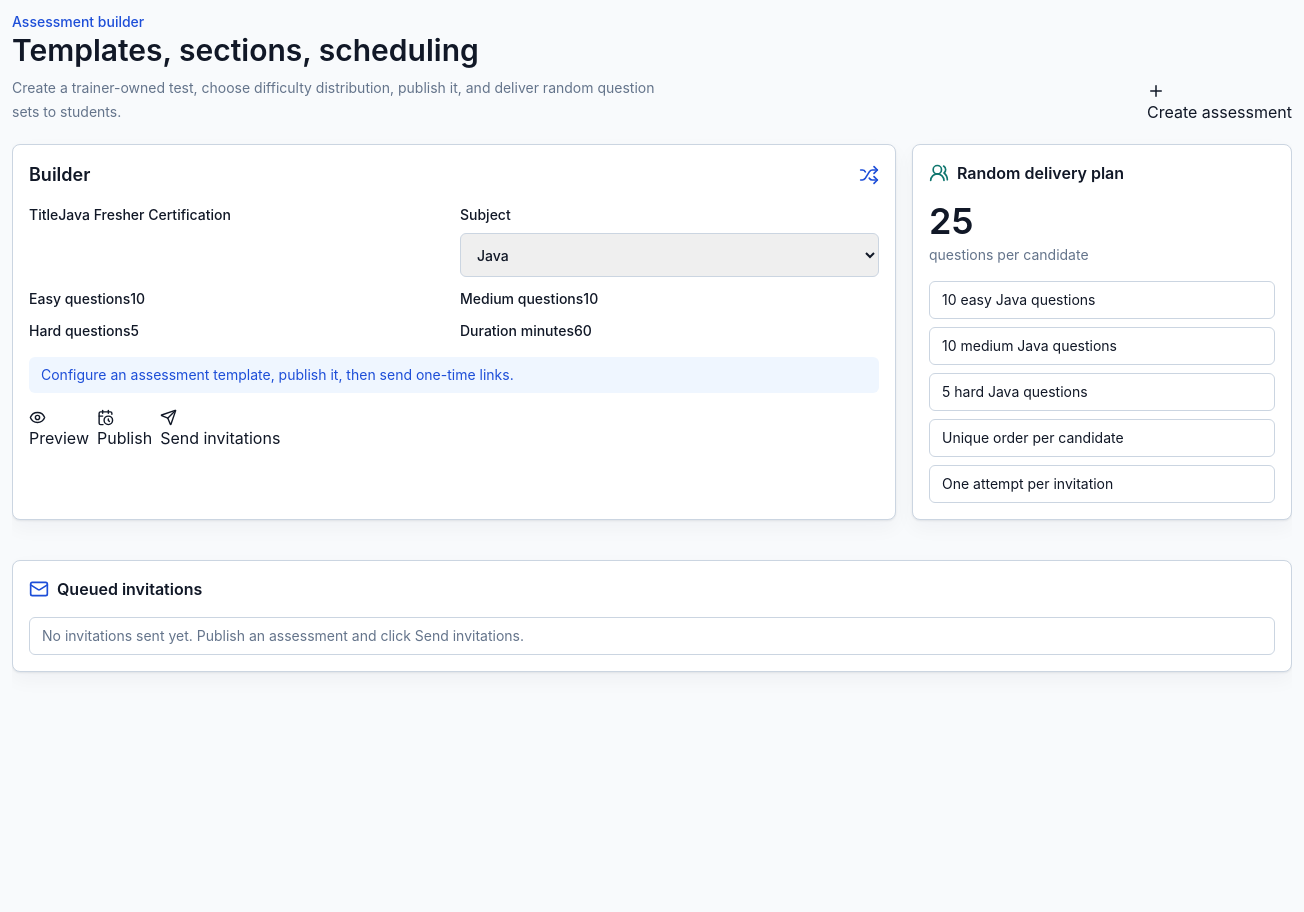
it: AssessmentWorkbench publish flow › creates a section and attaches real approved questions before publishing (not zero, like before)
Click the button "Publish".
click(125, 430)  # box [97, 409, 152, 450]
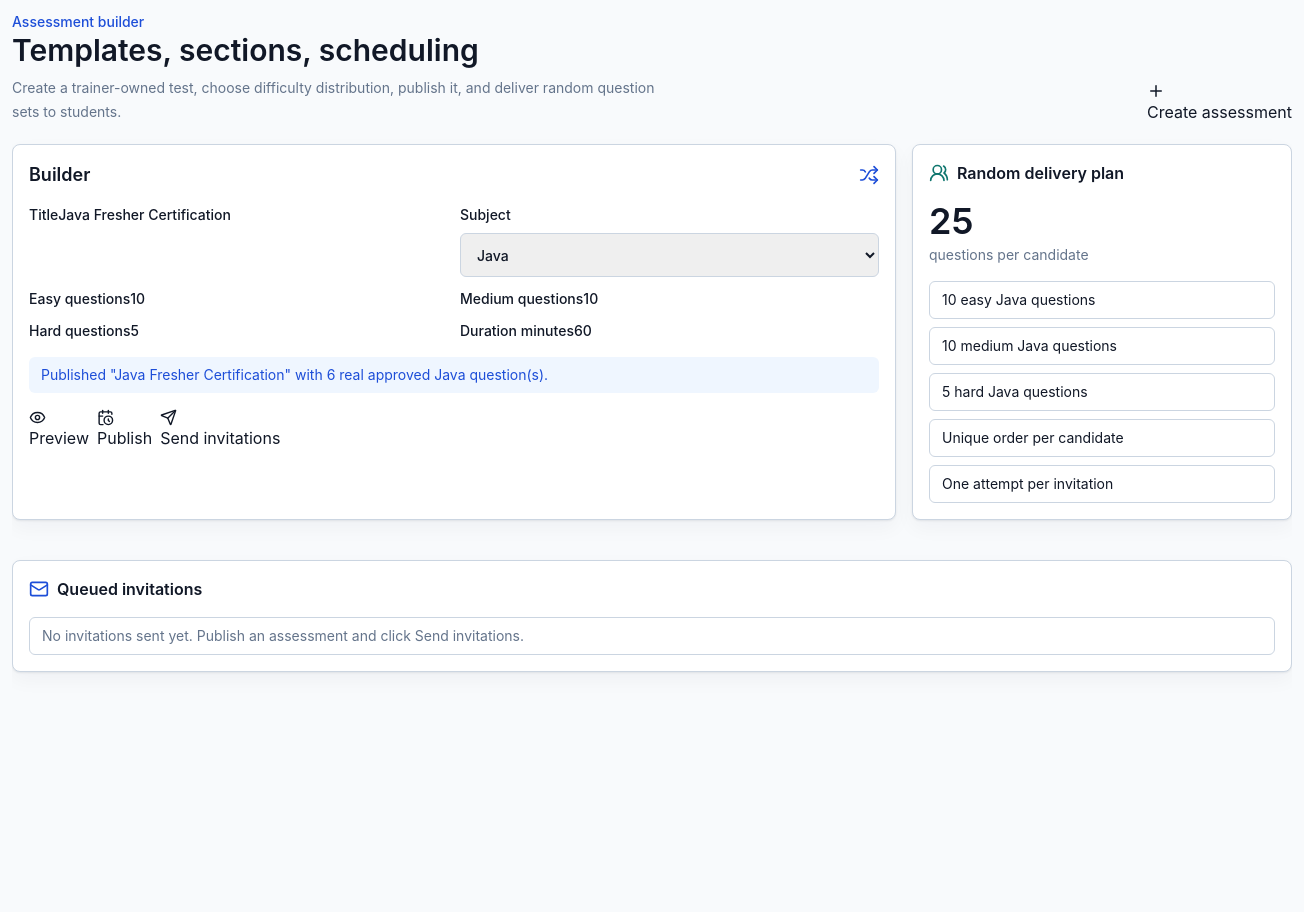
expect the text "real approved" is shown: met, box [41, 366, 548, 383]
